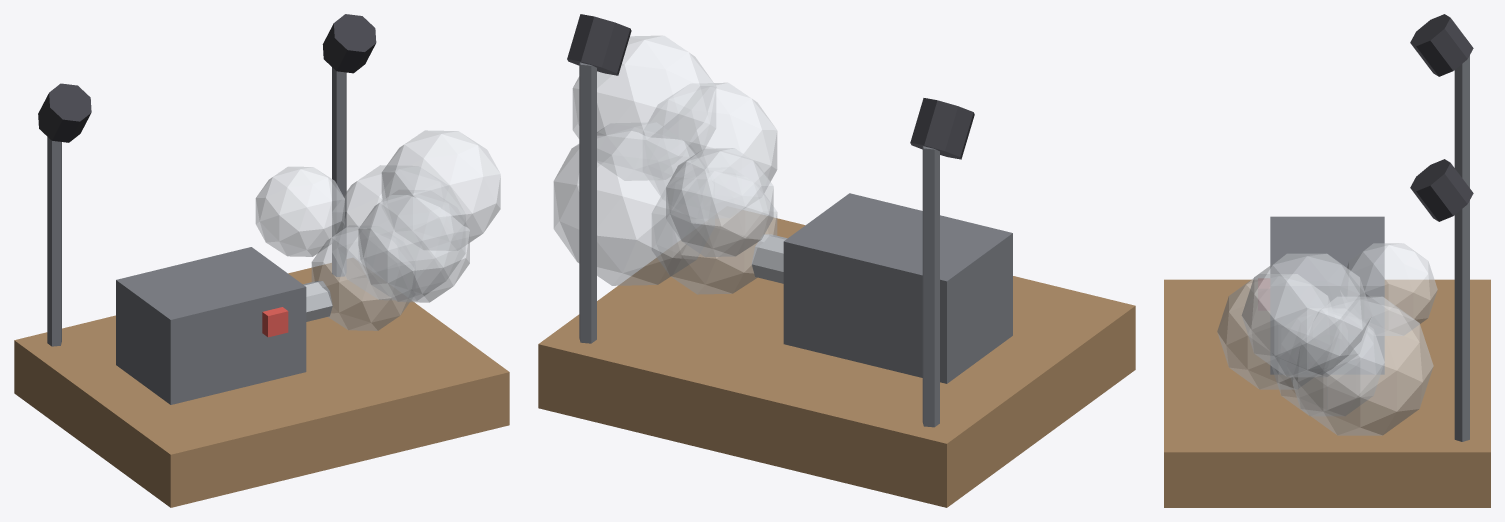
The model's file is buehnennebel.glb.
3 views of the same model, side by side, from view 1: azimuth 30°, elevation 25°; view 2: azimuth 150°, elevation 25°; view 3: azimuth 270°, elevation 25° (orthographic). The views are drawn at different scales.
Parts seen in each view (by area): view 1: holz_0, metall_dunkel_1, nebel_8, nebel_6, nebel_4, nebel_5, nebel_7, metall_dunkel_9, metall_dunkel_11, schwarz_10, schwarz_12, metall_3 (+1 smaller); view 2: holz_0, metall_dunkel_1, nebel_5, nebel_8, nebel_4, nebel_7, nebel_6, metall_dunkel_11, metall_dunkel_9, schwarz_10, schwarz_12, metall_3; view 3: holz_0, nebel_5, nebel_8, metall_dunkel_1, nebel_6, nebel_7, nebel_4, metall_dunkel_11, schwarz_10, schwarz_12, metall_dunkel_9, rot_2.
Boxes of the visible parts, <box> form: holz_0: <box>14,258,509,507</box>; metall_dunkel_1: <box>116,247,306,404</box>; nebel_8: <box>381,130,500,250</box>; nebel_6: <box>358,190,469,302</box>; nebel_4: <box>311,225,415,330</box>; nebel_5: <box>332,165,465,300</box>; nebel_7: <box>255,166,344,256</box>; metall_dunkel_9: <box>47,137,61,346</box>; metall_dunkel_11: <box>332,67,346,276</box>; schwarz_10: <box>38,83,91,142</box>; schwarz_12: <box>322,14,376,73</box>; metall_3: <box>303,281,332,321</box>; holz_0: <box>538,210,1135,507</box>; metall_dunkel_1: <box>783,193,1012,383</box>; nebel_5: <box>553,122,707,285</box>; nebel_8: <box>572,35,716,180</box>; nebel_4: <box>652,171,777,294</box>; nebel_7: <box>666,148,773,256</box>; nebel_6: <box>649,82,777,195</box>; metall_dunkel_11: <box>579,62,596,343</box>; metall_dunkel_9: <box>922,146,939,427</box>; schwarz_10: <box>910,98,974,159</box>; schwarz_12: <box>567,14,631,75</box>; metall_3: <box>752,234,787,283</box>; holz_0: <box>1164,279,1490,507</box>; nebel_5: <box>1291,296,1433,435</box>; nebel_8: <box>1241,253,1372,377</box>; metall_dunkel_1: <box>1270,216,1384,374</box>; nebel_6: <box>1217,274,1329,389</box>; nebel_7: <box>1340,243,1437,335</box>; nebel_4: <box>1272,327,1384,416</box>; metall_dunkel_11: <box>1454,200,1469,441</box>; schwarz_10: <box>1410,14,1473,76</box>; schwarz_12: <box>1410,159,1473,221</box>; metall_dunkel_9: <box>1454,55,1469,187</box>; rot_2: <box>1258,279,1269,309</box>.
Bounding box in the file's own units: 1.16 × 0.8951 × 0.8.
